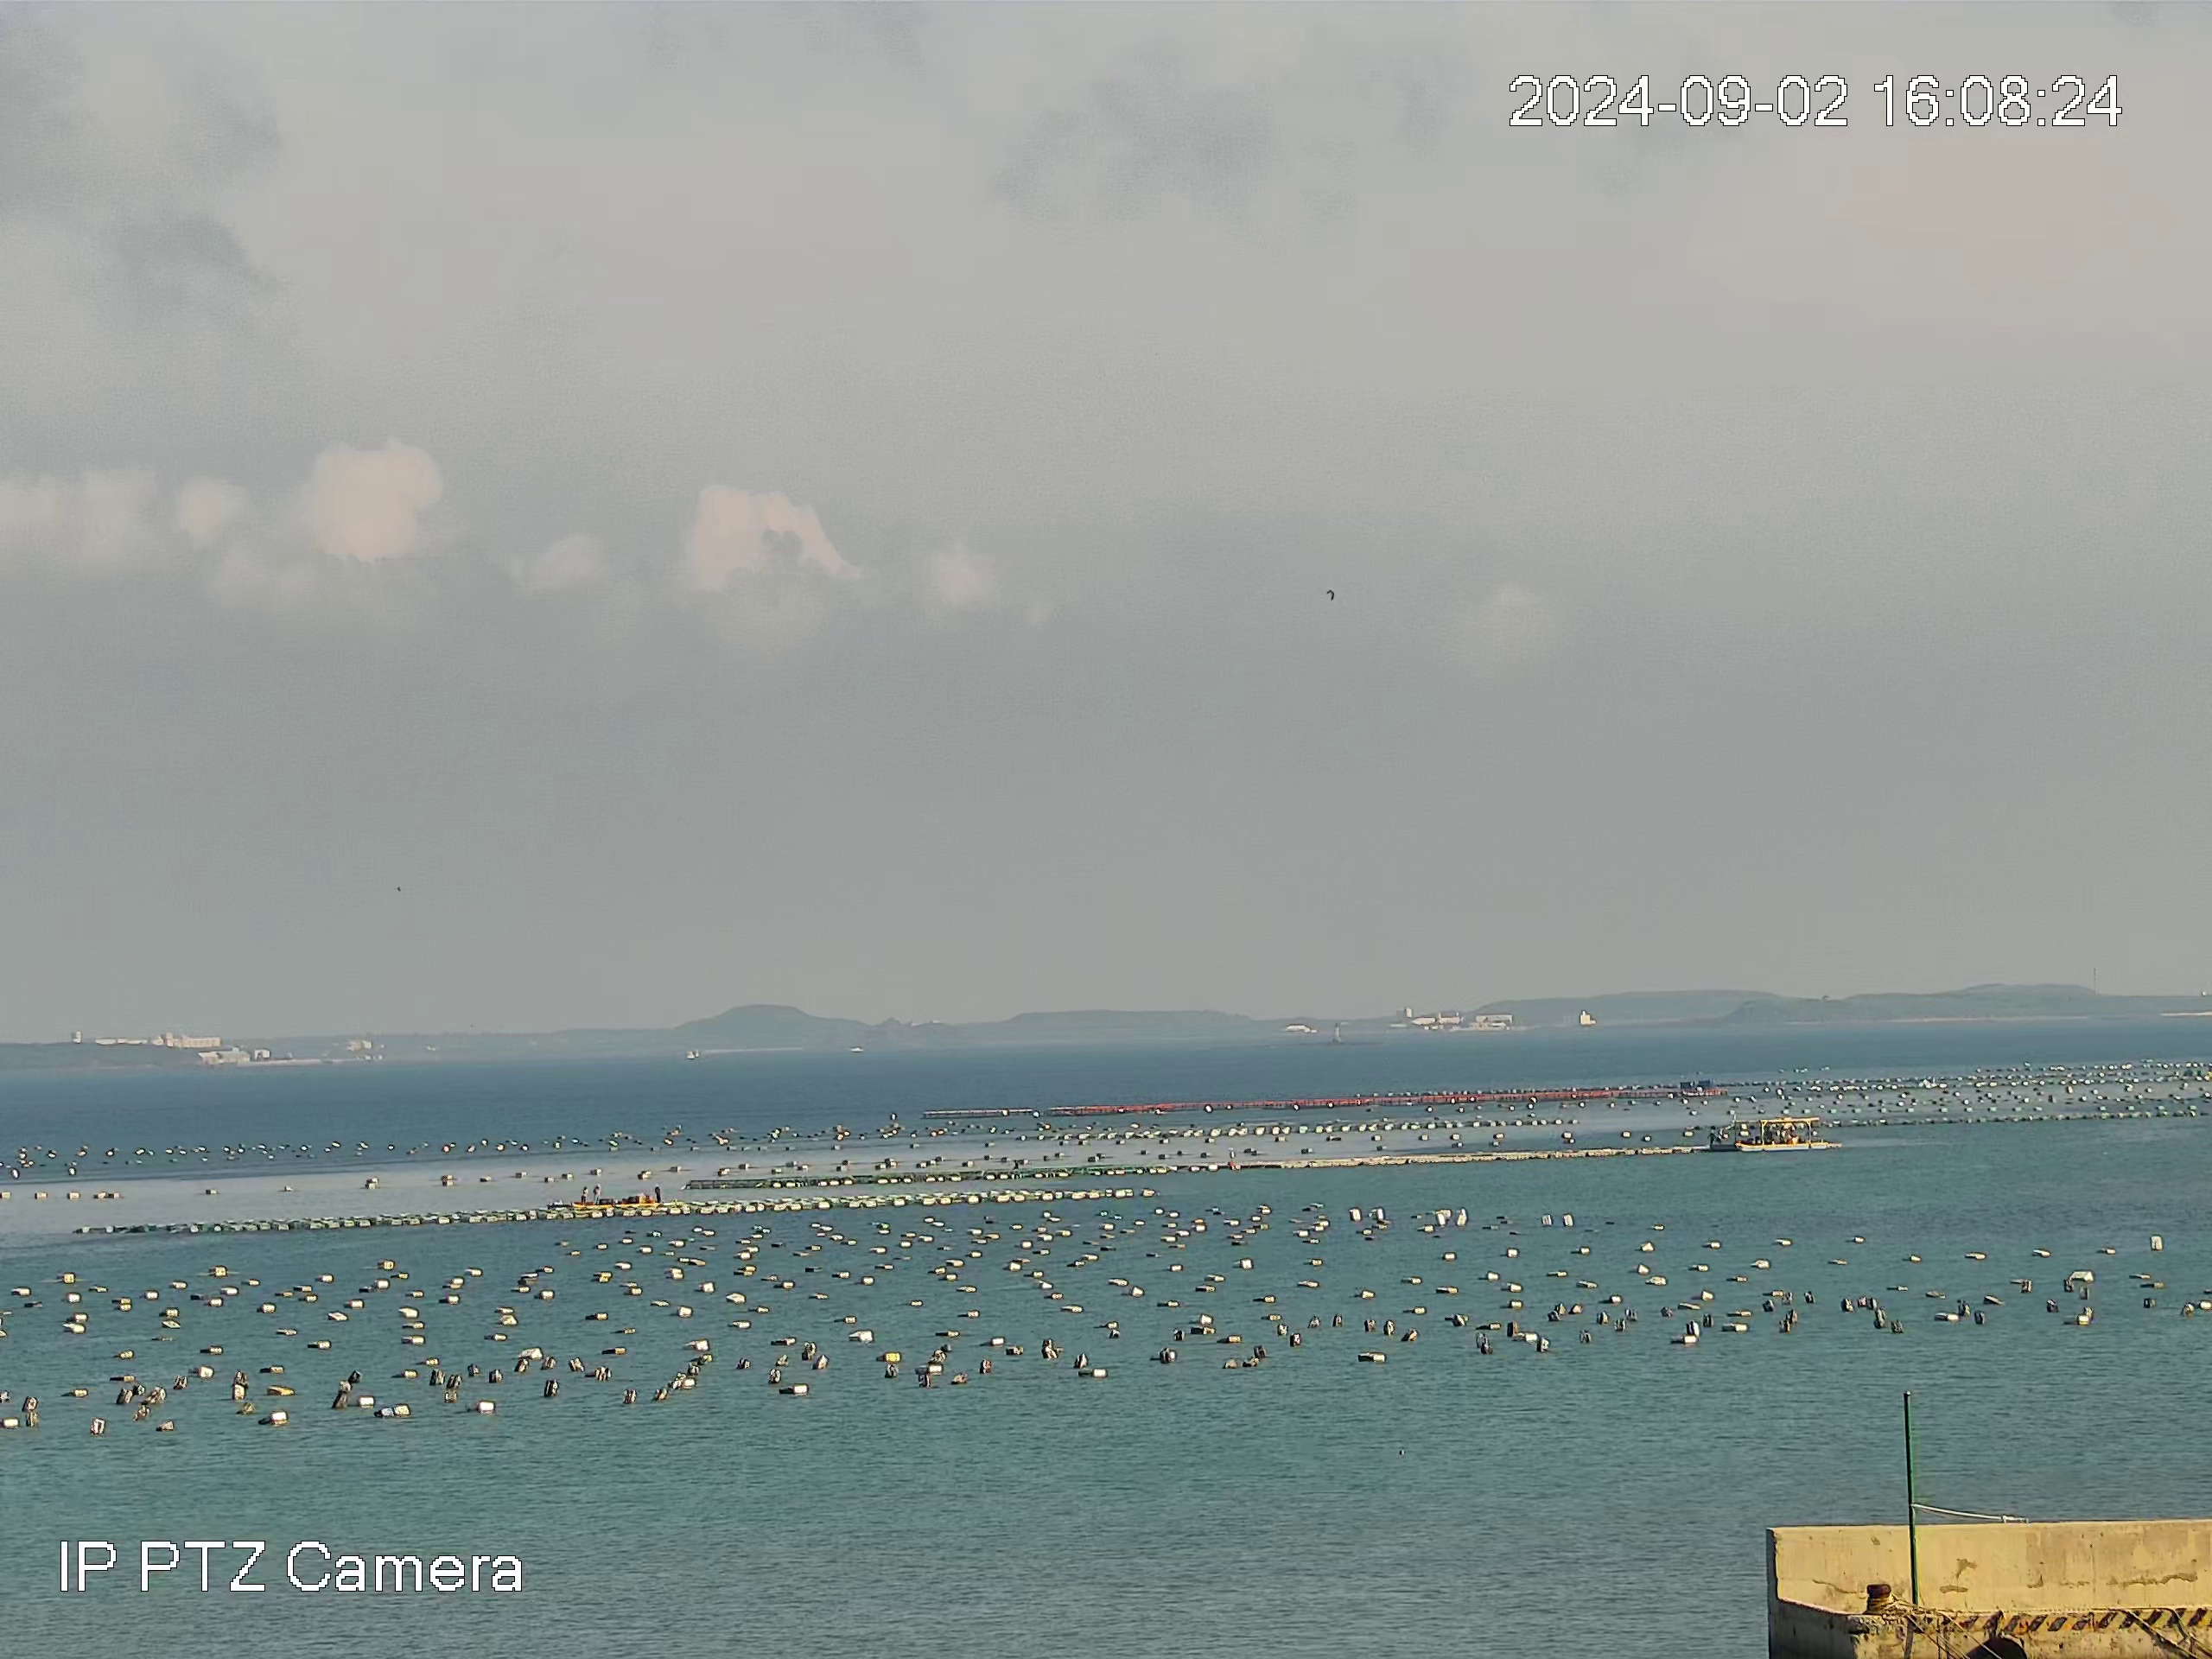boat: (1733, 1115, 1831, 1152), (570, 1183, 664, 1208)
